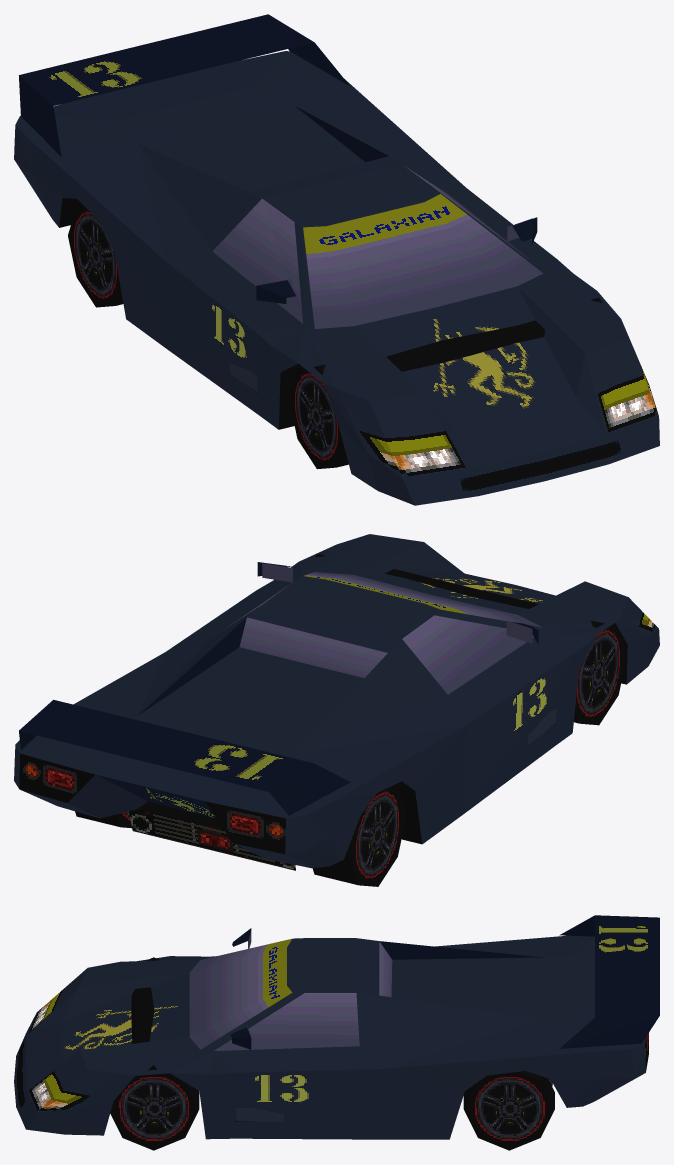
File: car-13.glb
3 renders of one model, top to bottom at view 1: azimuth 30°, elevation 25°; view 2: azimuth 150°, elevation 25°; view 3: azimuth 270°, elevation 25°, orthographic. The views are drawn at different scales.
Visible parts, largest first — view 1: car-13; view 2: car-13; view 3: car-13.
Boxes of the visible parts, x1,y1,x2,y2 form: car-13: (14,14,659,505); car-13: (14,534,659,886); car-13: (14,915,659,1150).
Bounding box in the file's own units: 0.252 × 0.1289 × 0.582.
Materials: 1 (1 with a texture image).
